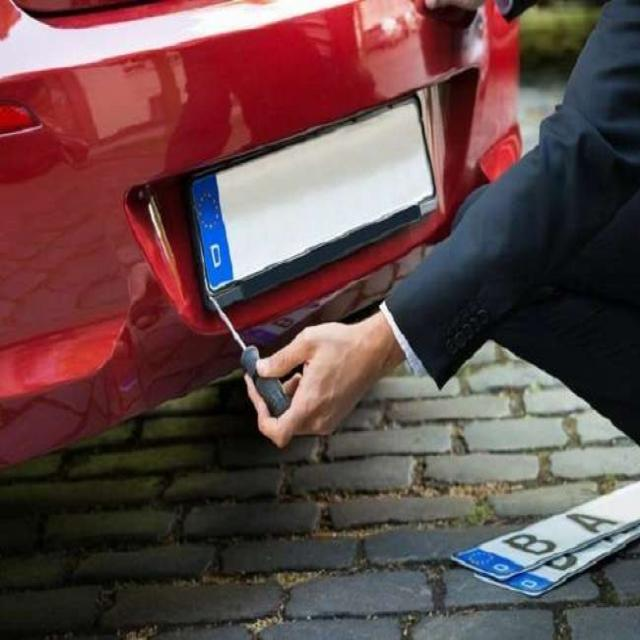License_Plate: (179, 88, 440, 312)
